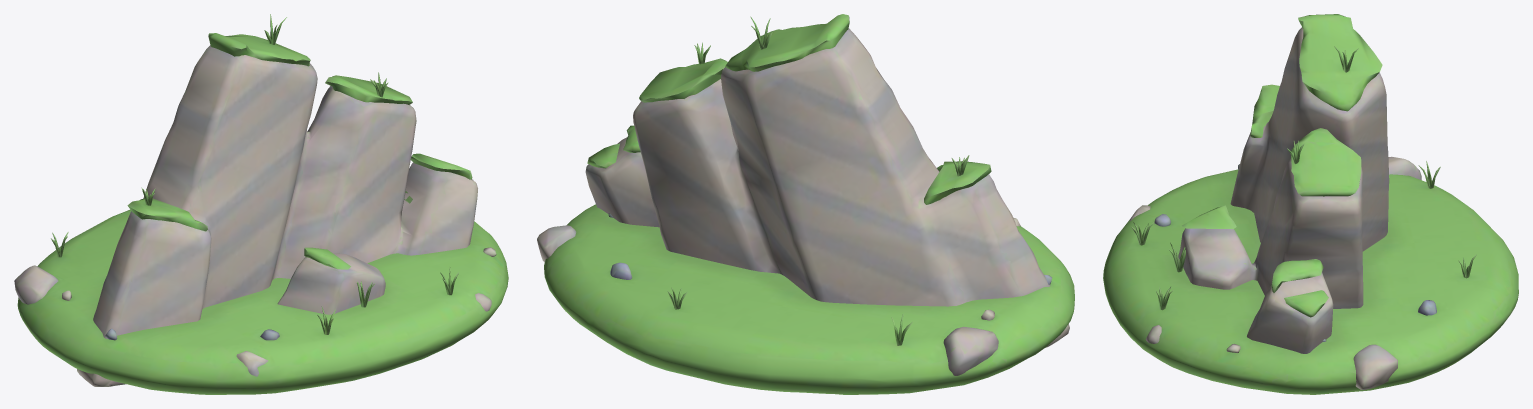
File: rocky-outcrop.glb
The picture shows the model from 3 angles, left to right: view 1: azimuth 30°, elevation 25°; view 2: azimuth 150°, elevation 25°; view 3: azimuth 270°, elevation 25°; orthographic projection. The views are drawn at different scales.
Visible parts, largest first — view 1: rocky-outcrop_body; view 2: rocky-outcrop_body; view 3: rocky-outcrop_body.
Part boxes in pixels (bbox=[...]): rocky-outcrop_body: bbox=[14, 14, 508, 394]; rocky-outcrop_body: bbox=[537, 14, 1074, 394]; rocky-outcrop_body: bbox=[1103, 14, 1518, 394].
Bounding box in the file's own units: 4.17 × 2.47 × 3.42.
1 material, 1 textured.
